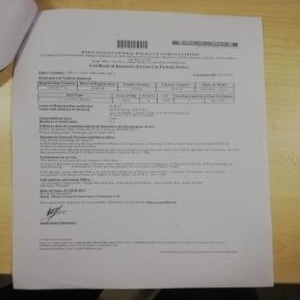table: (37, 92, 237, 107), (34, 80, 234, 92)
text: (38, 106, 246, 203), (37, 49, 241, 70)
